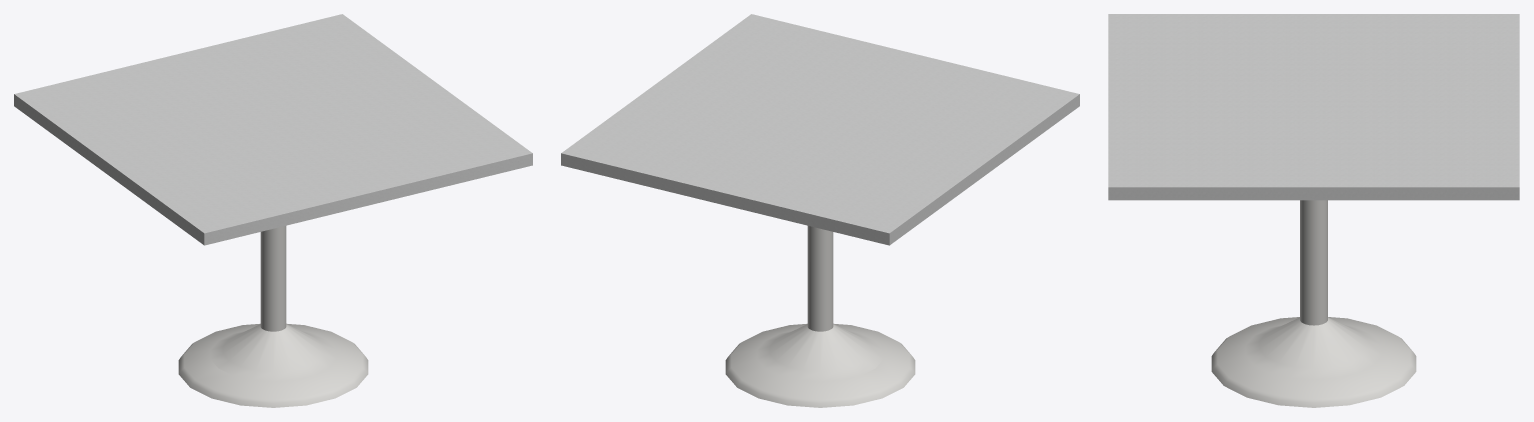
The model's file is Table01.FBX.
3 views of the same model, side by side, from view 1: azimuth 30°, elevation 25°; view 2: azimuth 150°, elevation 25°; view 3: azimuth 270°, elevation 25° (orthographic). The views are drawn at different scales.
Parts seen in each view (by area): view 1: Table01; view 2: Table01; view 3: Table01.
Boxes of the visible parts, box(x1,y1,x2,y2) form: Table01: box(14, 14, 532, 407); Table01: box(561, 14, 1079, 407); Table01: box(1108, 14, 1519, 407).
Size of the model in its own units: 113 by 80 by 113.
